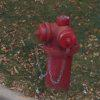Hydrant: (33, 4, 80, 90)
